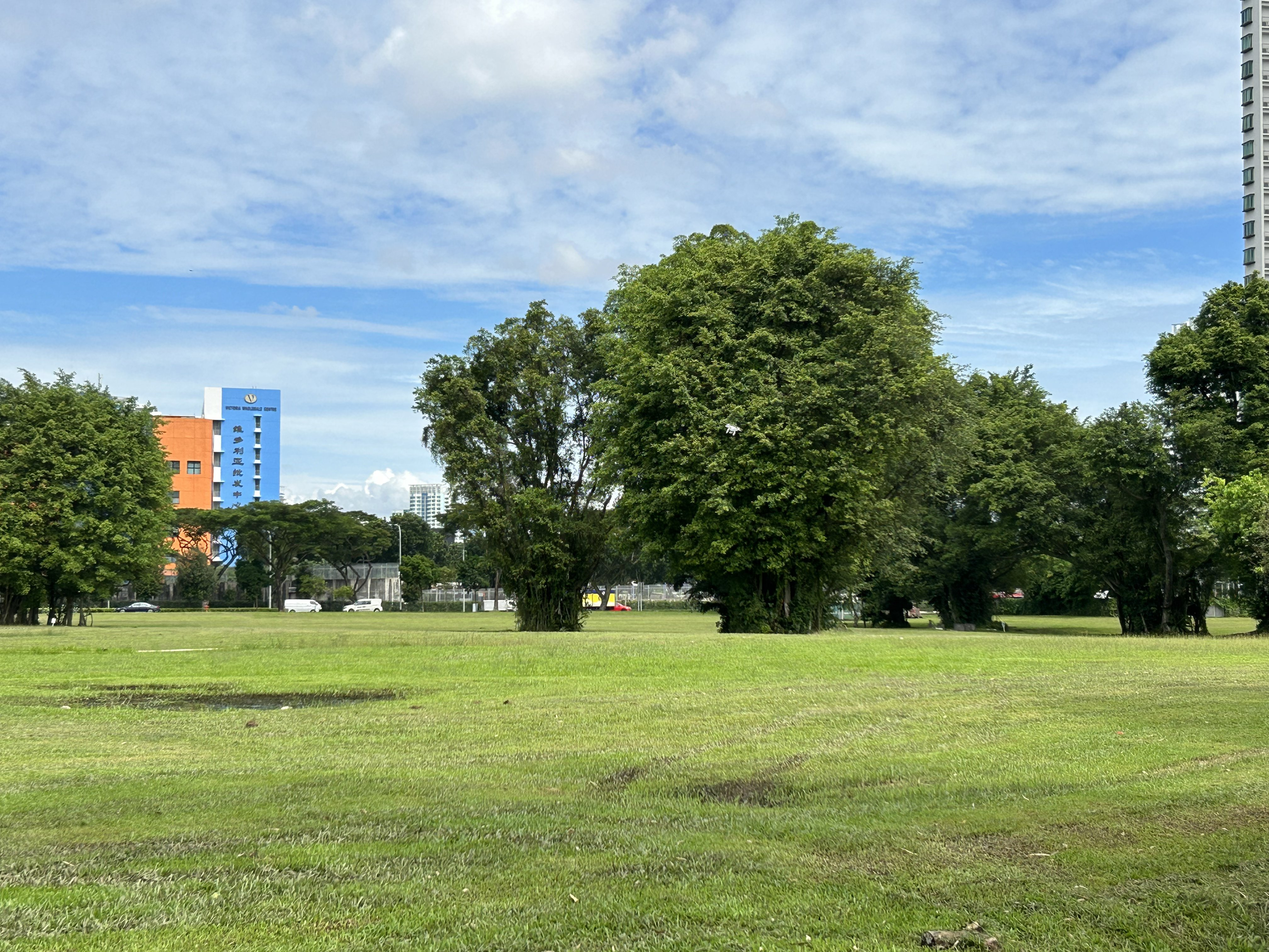drone_other: (722, 421, 744, 436)
